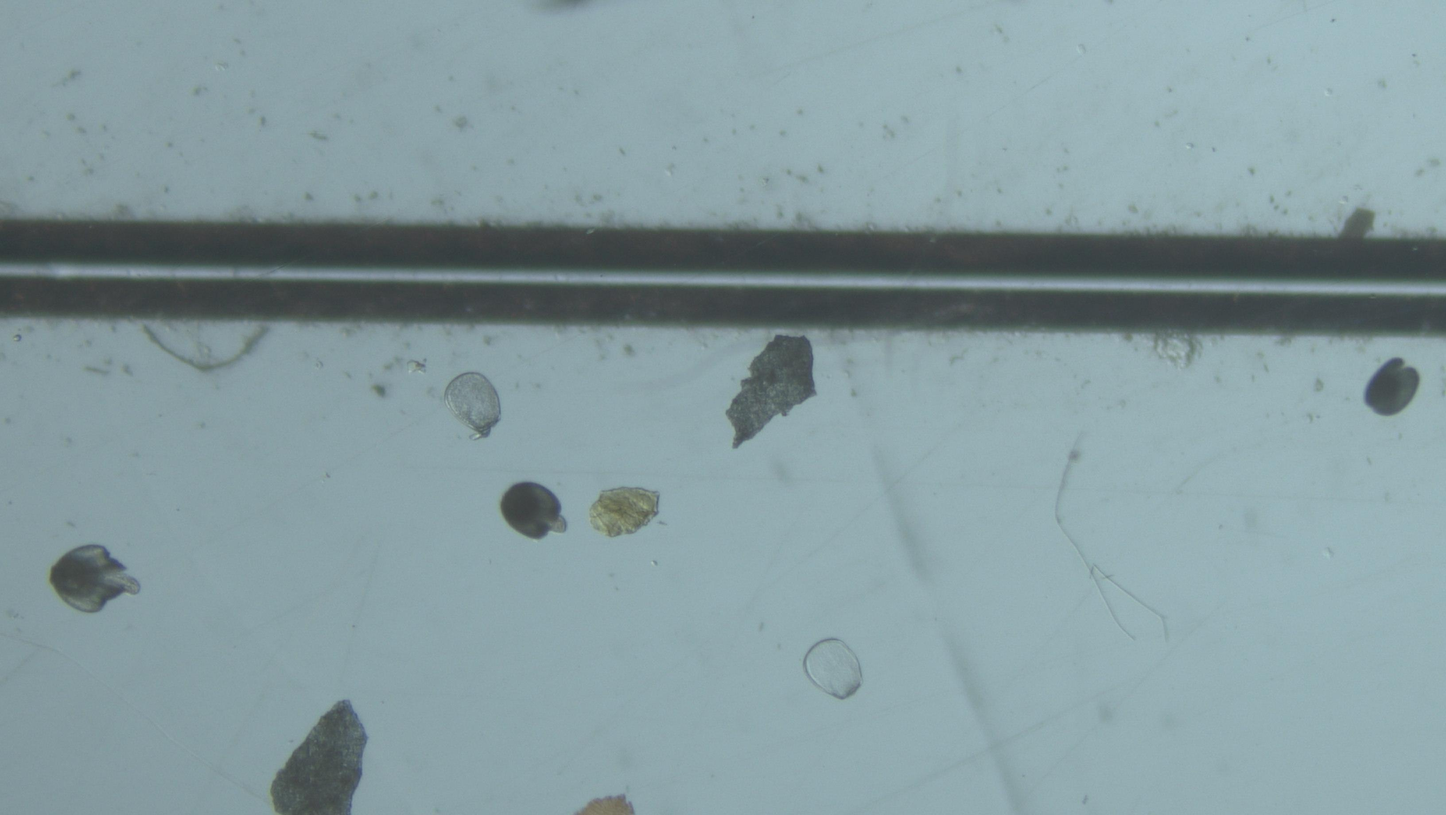dead: (443, 372, 501, 439), (804, 638, 863, 699)
live: (49, 545, 140, 613), (501, 482, 565, 539), (1365, 358, 1419, 416)
